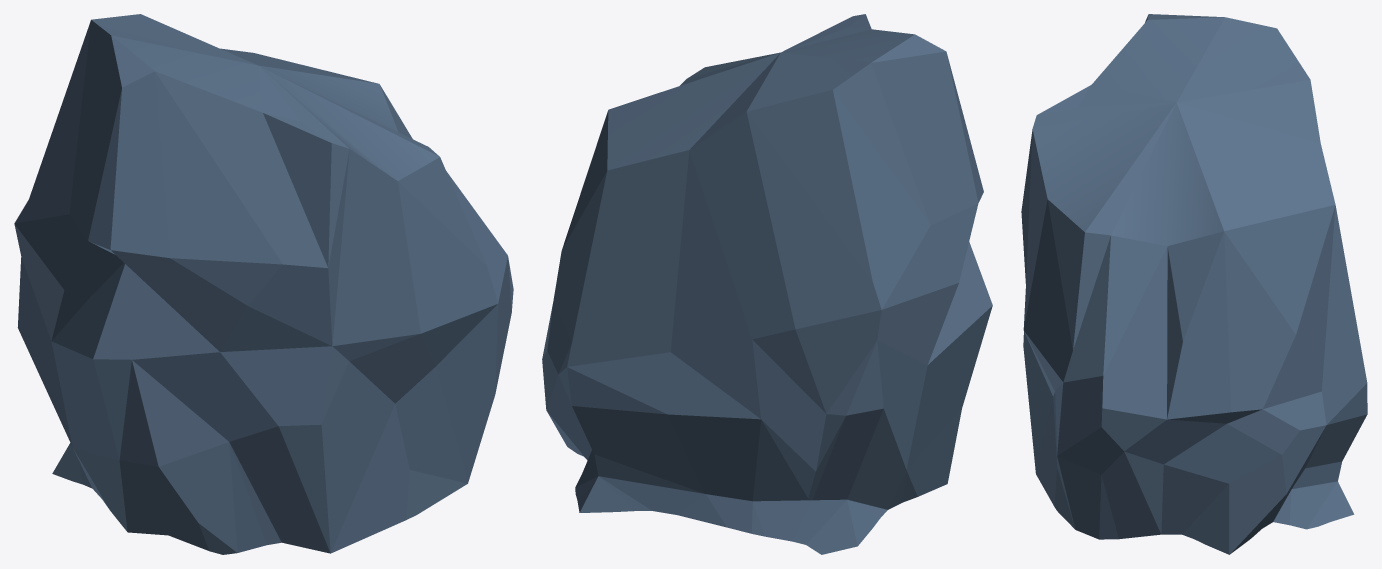
The model's file is roca5.fbx.
The picture shows the model from 3 angles, left to right: view 1: azimuth 30°, elevation 25°; view 2: azimuth 150°, elevation 25°; view 3: azimuth 270°, elevation 25°; orthographic projection. The views are drawn at different scales.
Parts seen in each view (by area): view 1: r5; view 2: r5; view 3: r5.
Boxes of the visible parts, bbox=[...] form: r5: bbox=[14, 14, 513, 554]; r5: bbox=[542, 14, 992, 554]; r5: bbox=[1021, 14, 1367, 554].
Bounding box in the file's own units: 12.45 × 13.85 × 10.55.
